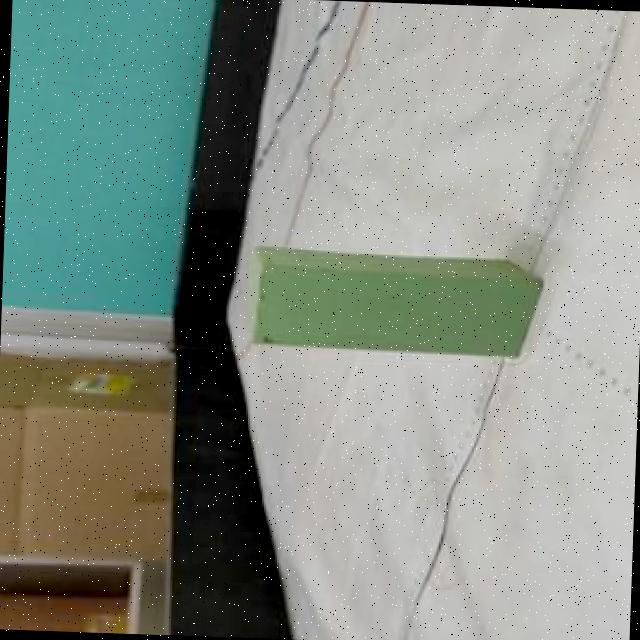greenbox: (248, 245, 543, 358)
